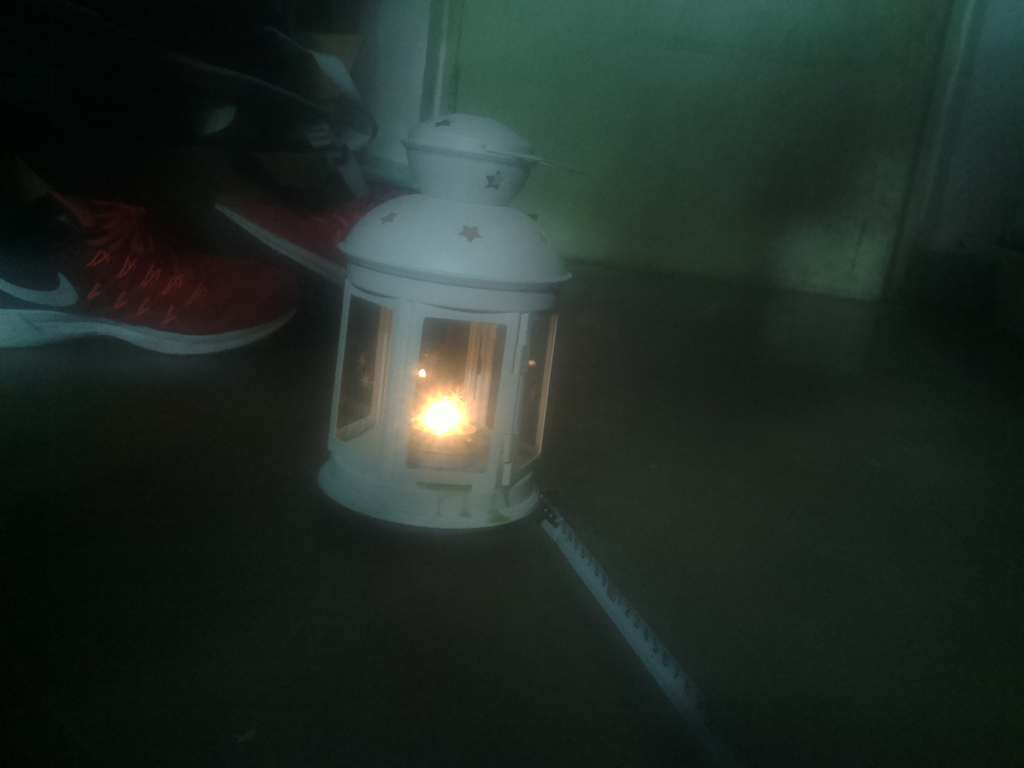fire: (386, 359, 499, 470)
